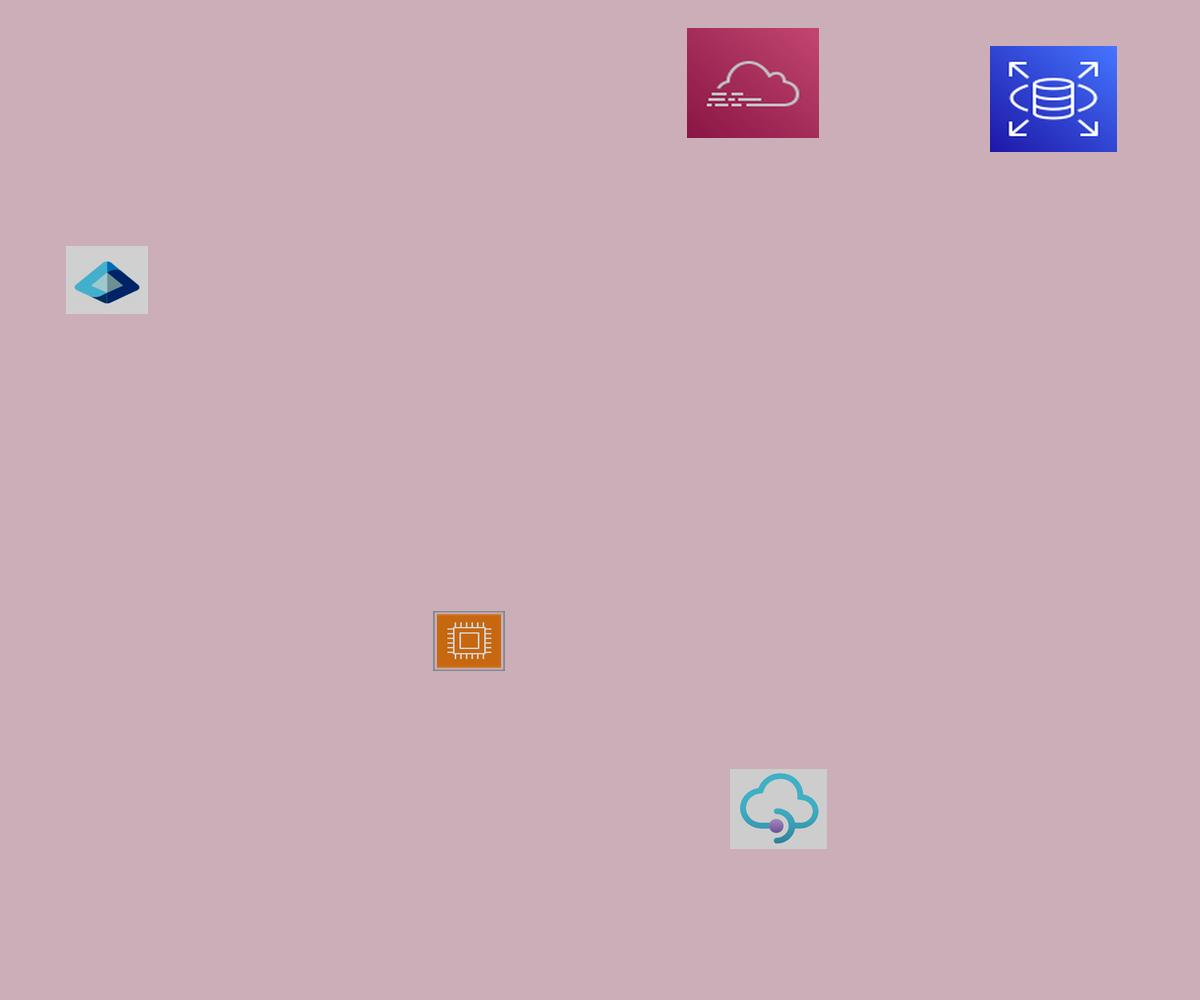AWS-Category_Compute: (433, 611, 505, 671)
AWS-CloudTrail: (687, 28, 819, 138)
AWS-RDS: (990, 46, 1117, 152)
Azure_api_gateway: (730, 769, 827, 849)
Azure_microsoft_entra: (66, 246, 148, 314)
